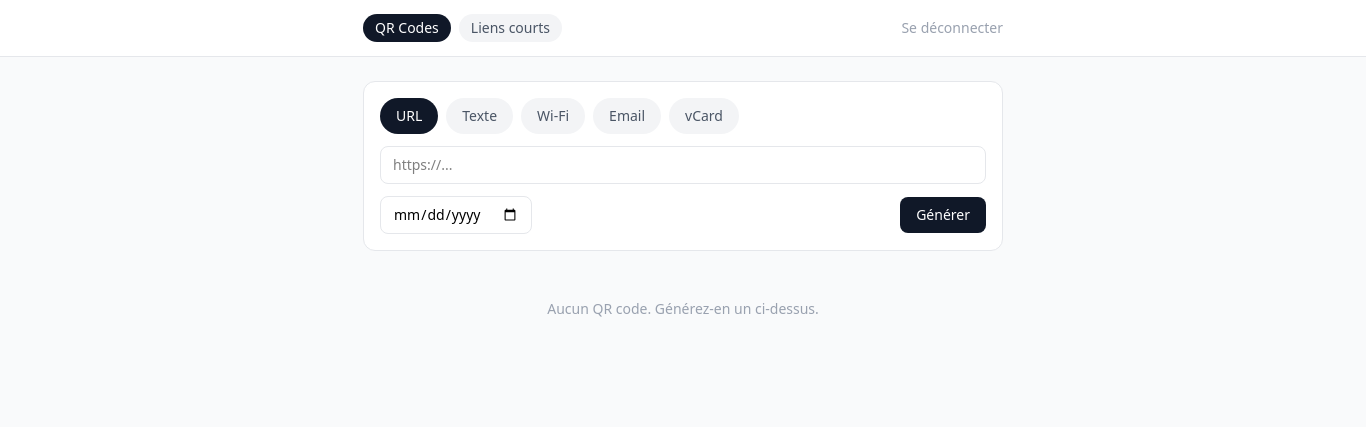
Test: CreateForm › should render ssid, security select, and password inputs when Wi-Fi is selected
This screenshot has width=1366, height=427.
Click the button "Wi-Fi" at {"x": 553, "y": 116}, box left=521, top=98, right=585, bottom=134
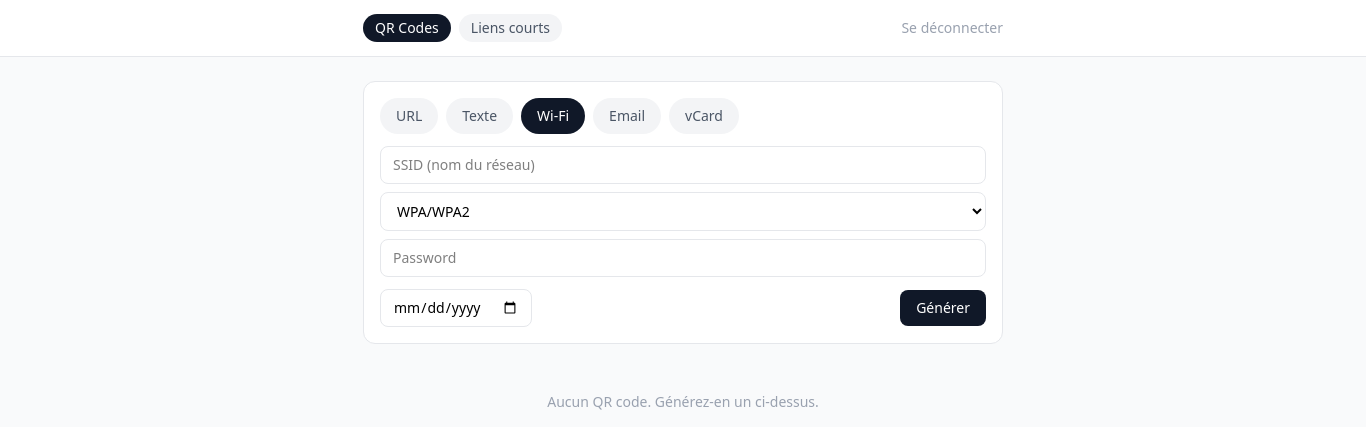
Now the field with placeholder "SSID (nom du réseau)" is shown, box left=380, top=146, right=986, bottom=184
Now the dropdown is shown, box left=380, top=192, right=986, bottom=231
Now the password field with placeholder "Password" is shown, box left=380, top=239, right=986, bottom=277
